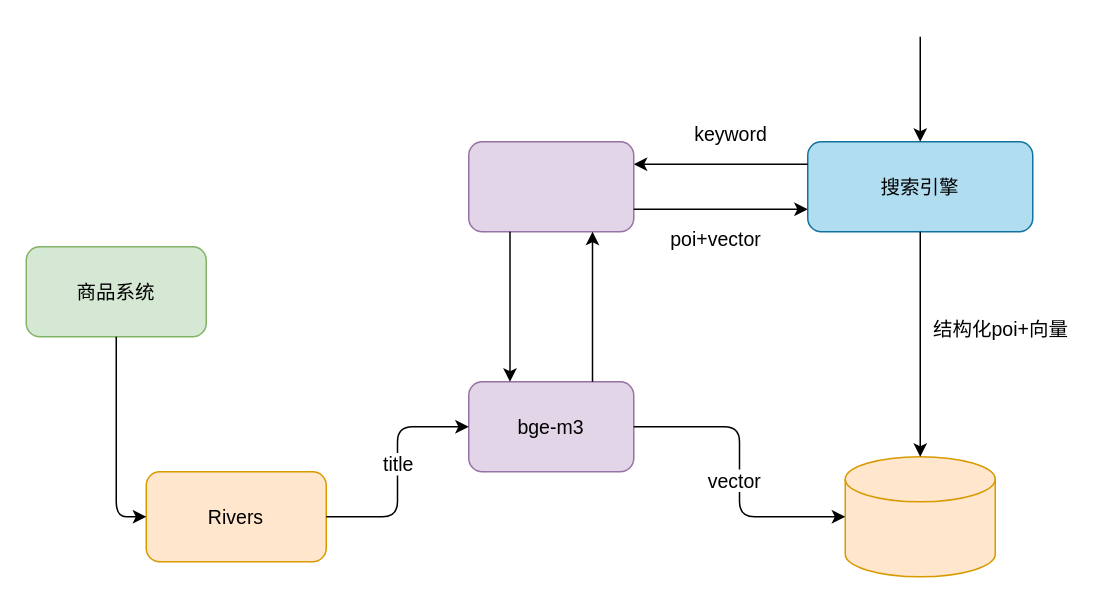
This 1103x603 diagram has some shape labels left out. The shapes that lost their labels are listed below. From the top down, each one's centre as x and y in pixels, then its label:
At (x=550, y=186): "analyze".
At (x=919, y=516): "ES".
